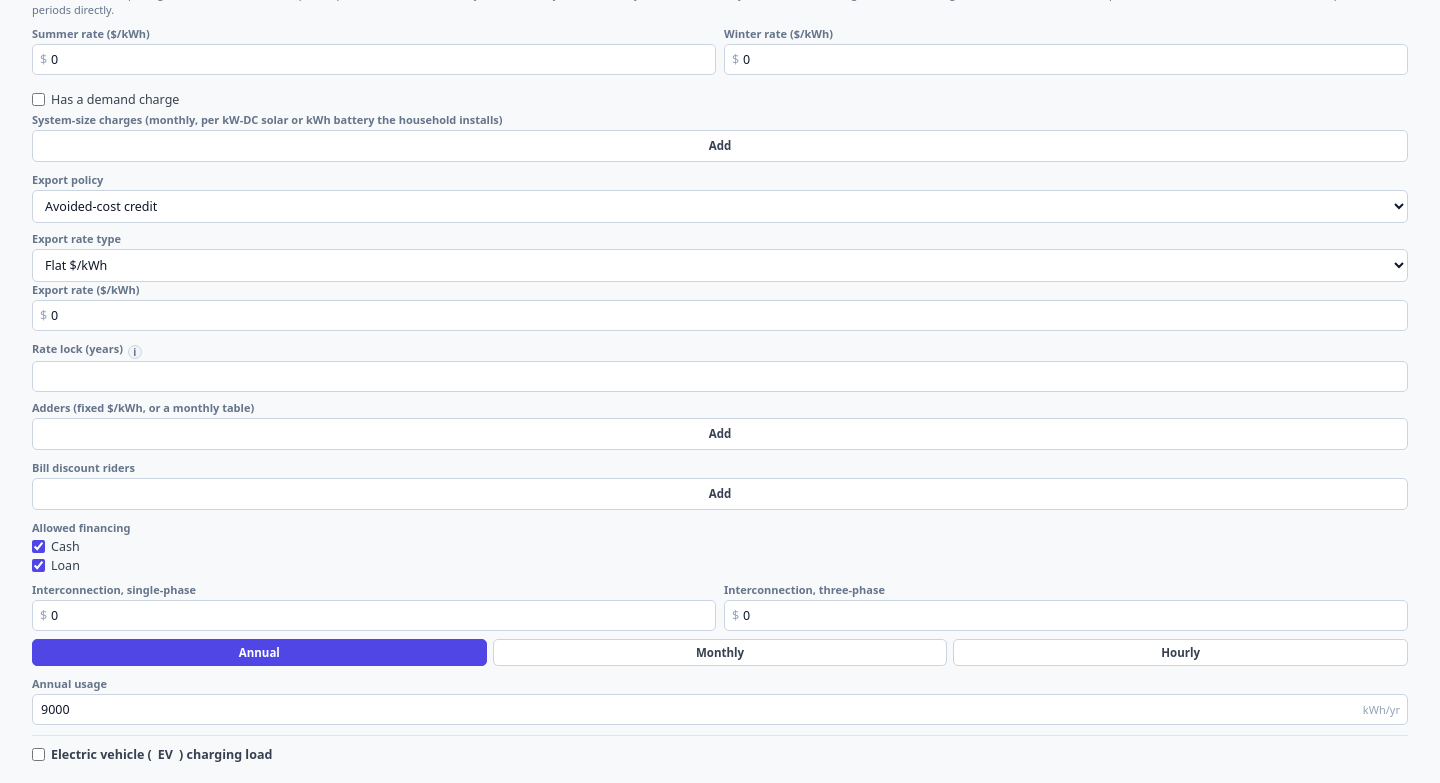
it: HouseholdSection: adders editor (fixed vs monthlyTable mode) › adds a fixed adder by default, then switching its mode to monthlyTable renders 12 month inputs and drops valuePerKWh
(page scrolled)
Click the button "Add" below "Adders (fixed $/" at (720, 434), box [32,418,1408,450]
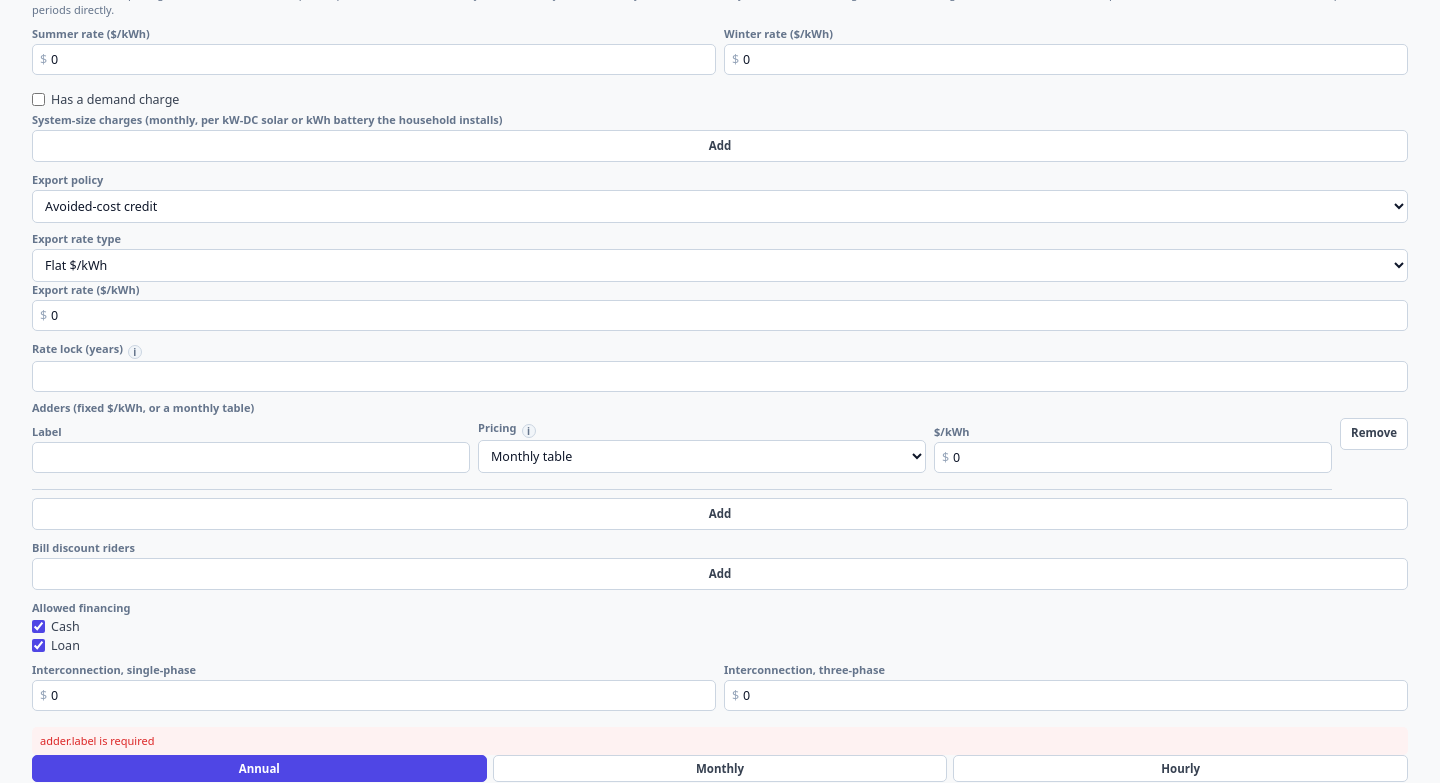
Select "Monthly table" in the dropdown labelled "Pricing" at (702, 456), box [478,440,926,473]
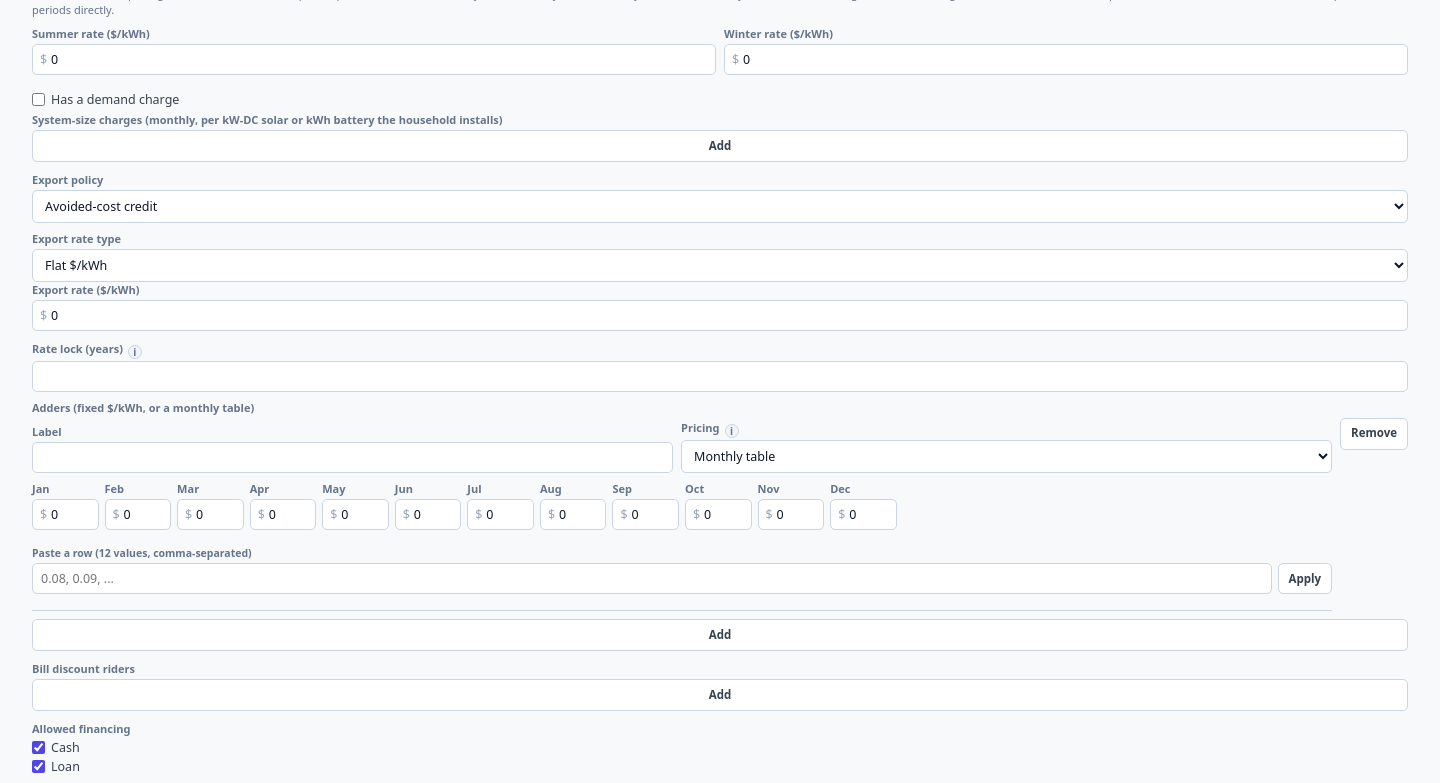
Now the text "Jan" is shown, box [32,481,50,496]
